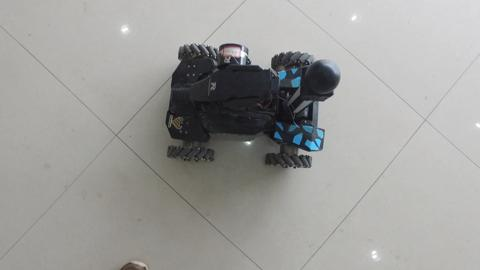chariot: (154, 35, 337, 189)
